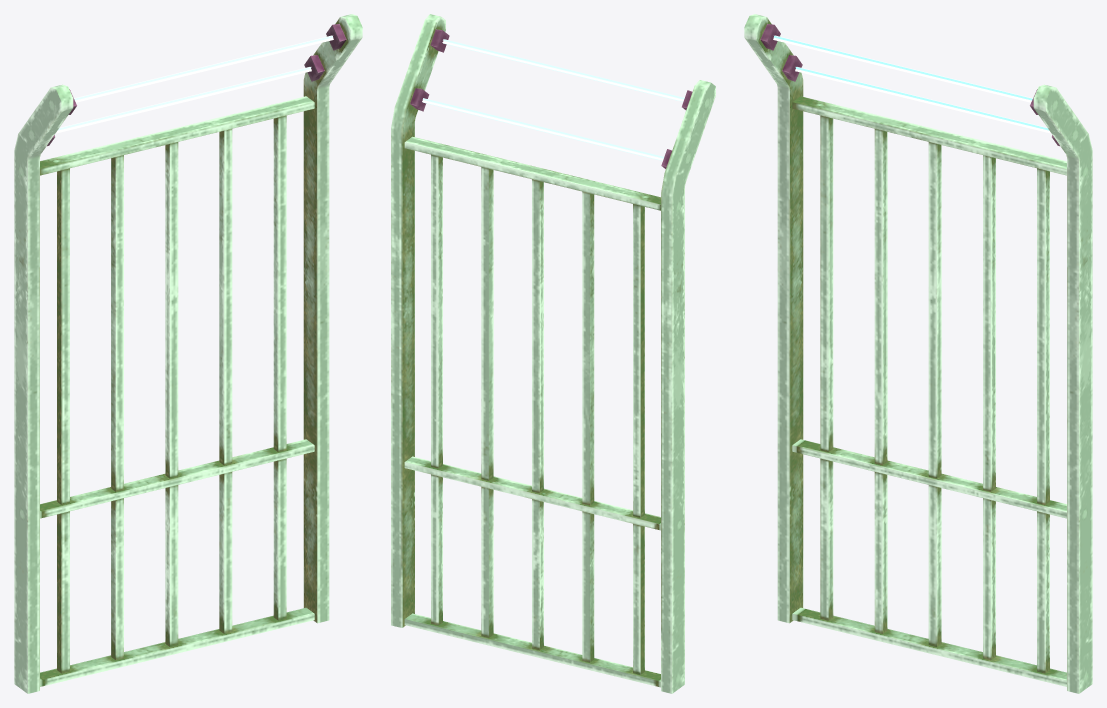
Rendered from CityMiscWalls_Laser_Fence.glb.
The picture shows the model from 3 angles, left to right: view 1: azimuth 30°, elevation 25°; view 2: azimuth 150°, elevation 25°; view 3: azimuth 330°, elevation 25°; orthographic projection. The views are drawn at different scales.
Visible parts, largest first — view 1: Laser_fence; view 2: Laser_fence; view 3: Laser_fence.
Part boxes in pixels (x1,y1,x2,y2): Laser_fence: [14, 14, 362, 693]; Laser_fence: [391, 14, 715, 693]; Laser_fence: [744, 14, 1092, 693].
Size of the model in its own units: 1.03 by 2.04 by 0.2785.
